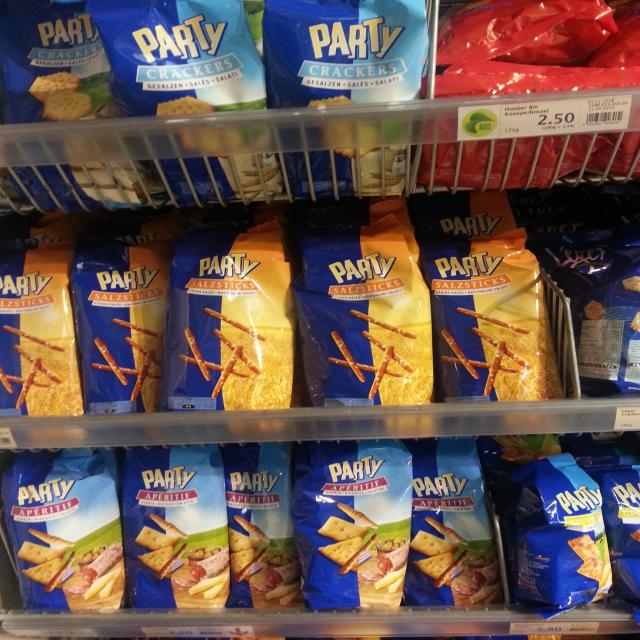Snacks: (83, 0, 287, 204), (263, 0, 441, 196), (0, 0, 156, 203), (162, 247, 304, 418), (305, 243, 449, 410), (422, 242, 554, 418), (0, 444, 127, 614), (118, 445, 231, 619), (304, 440, 411, 616), (492, 457, 615, 608), (75, 248, 174, 428), (408, 439, 511, 606), (0, 251, 80, 432), (226, 445, 302, 612)
